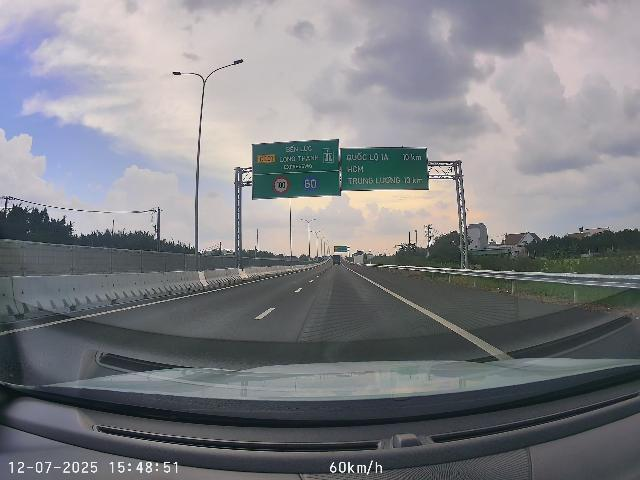127-toc-do-toi-da-100: (272, 176, 290, 194)
306-toc-do-toi-thieu-60: (301, 175, 320, 192)
437-bat-dau-duong-cao-toc: (322, 148, 334, 163)
